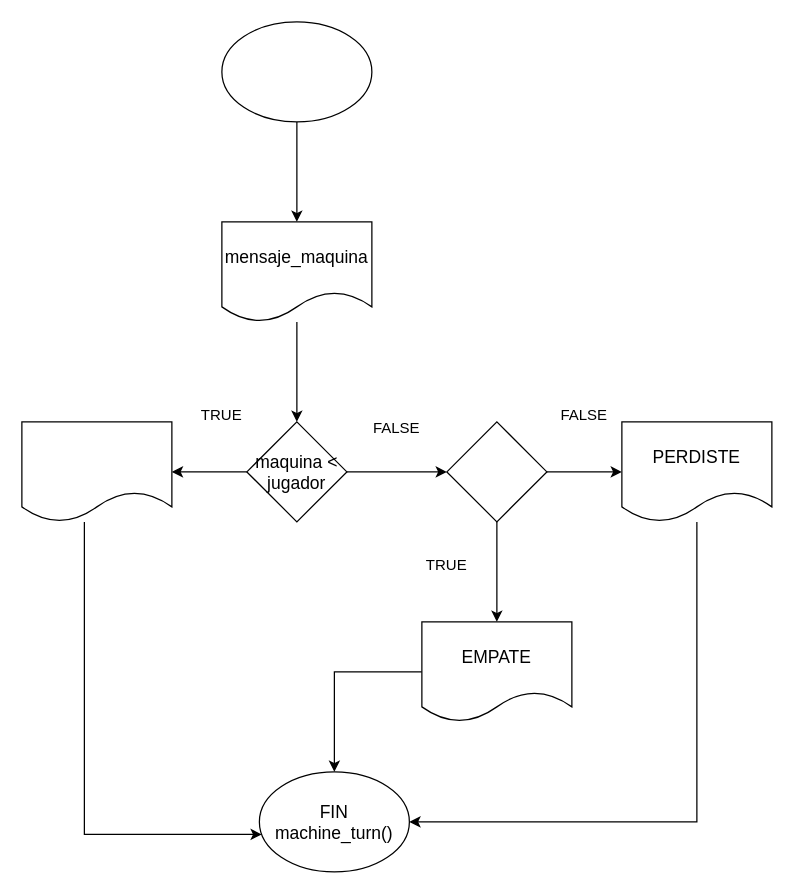
The diagram is 794 pixels wide and 894 high, and some of its shapes have lost their labels. Each missing label, with the centre of its shape:
Ganaste: (96,471)
INICIO machine_turn(): (296,71)
maquina = jugador: (496,471)
